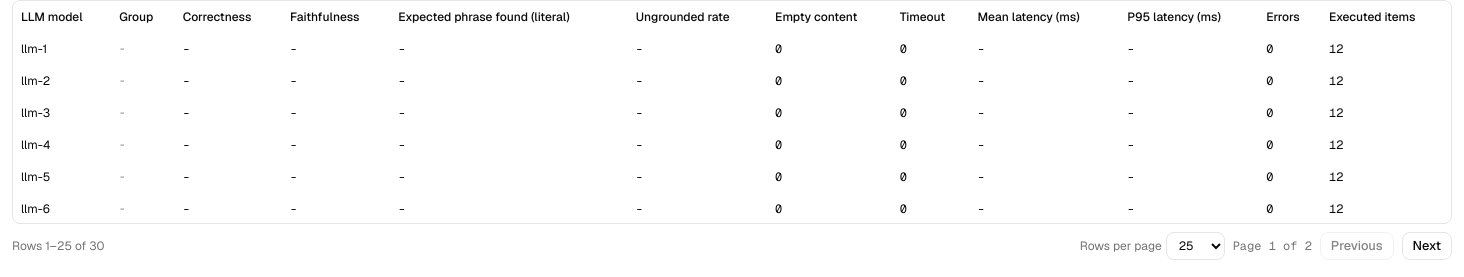
Test case: LlmComparisonTable › paginates model comparison rows
Expected: the text "llm-1" is shown, x1=21 y1=41 x2=47 y2=57
Expected: the text "llm-30" is not shown
Click the button with test id "lab-llm-comparison-pagination-next": (1427, 246) x1=1402 y1=232 x2=1452 y2=260
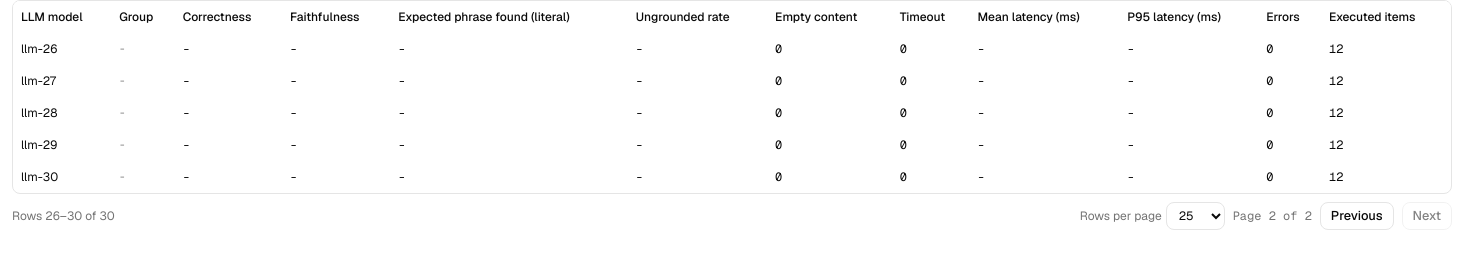
Expected: the text "llm-30" is shown, x1=21 y1=169 x2=58 y2=185
